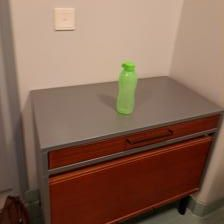bottle: (115, 61, 139, 116)
